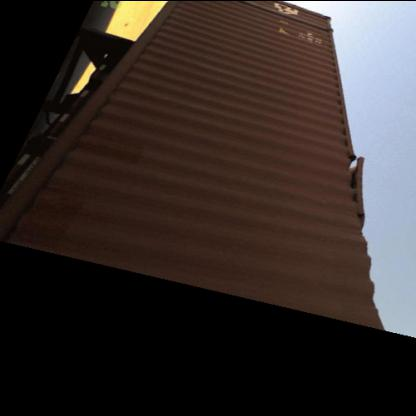Damage: (336, 140, 390, 266), (246, 4, 338, 36)
